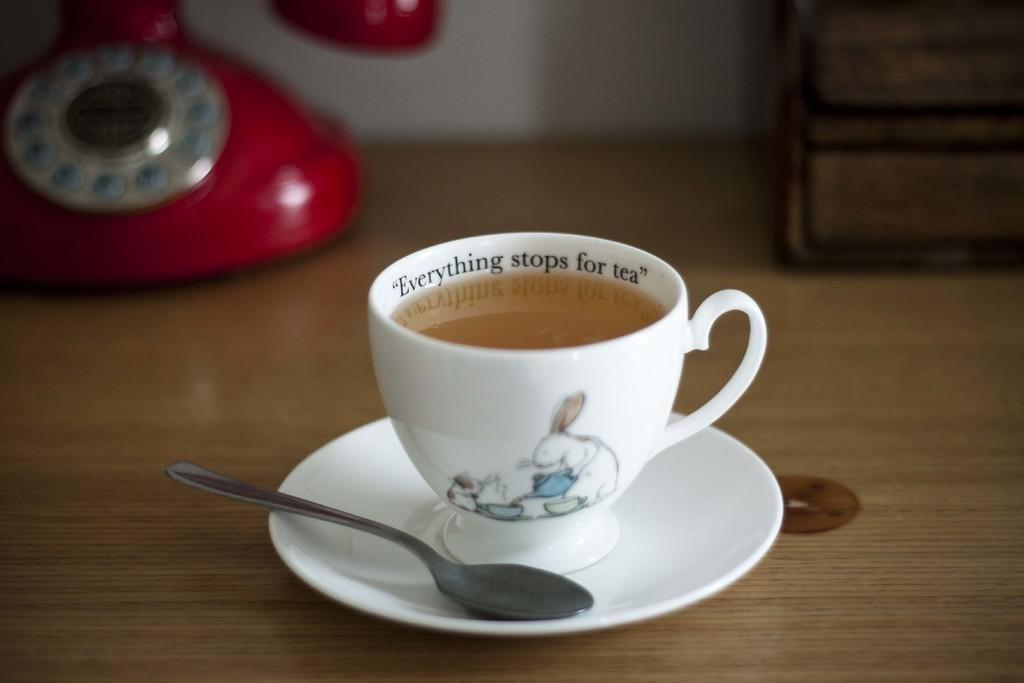cup-handle: (369, 232, 768, 572)
